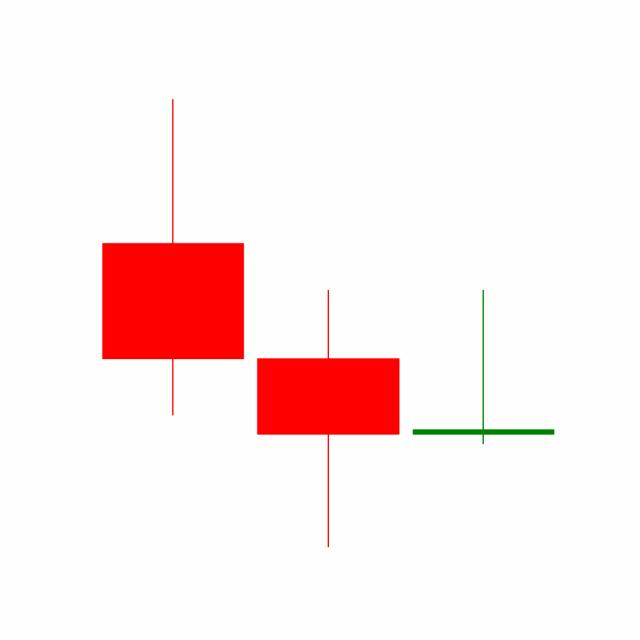Gravestone Doji: (405, 288, 561, 447)
